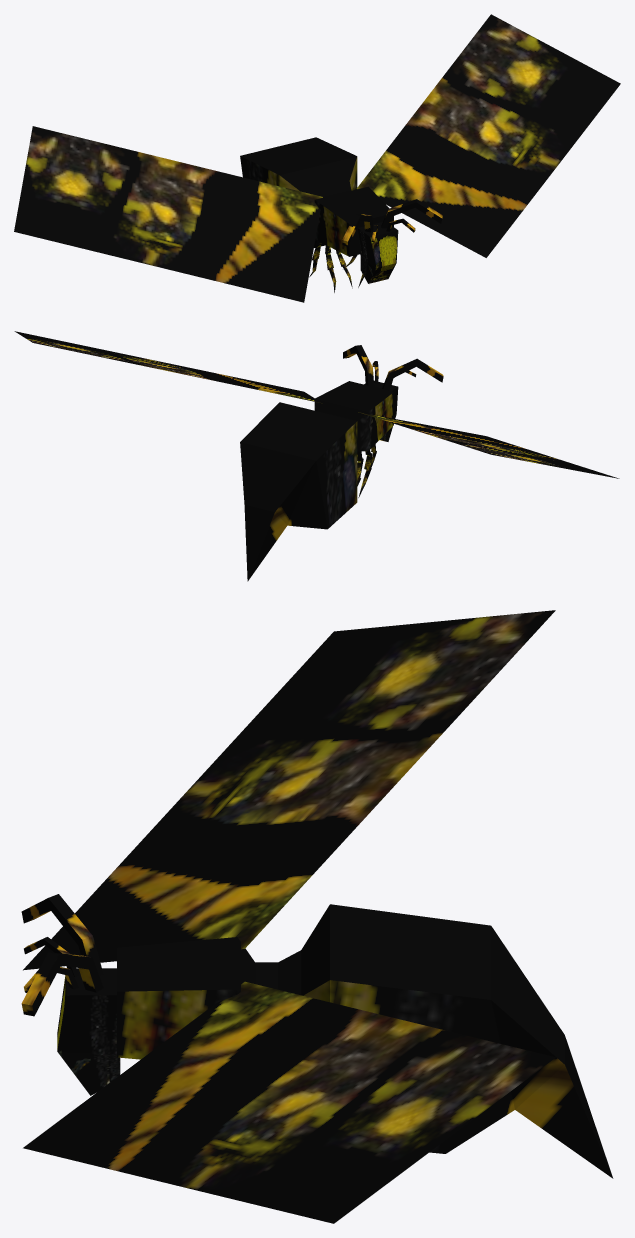
The model's file is vespidqueen.obj.
3 renders of one model, top to bottom at view 1: azimuth 30°, elevation 25°; view 2: azimuth 150°, elevation 25°; view 3: azimuth 270°, elevation 25°, orthographic. The views are drawn at different scales.
Visible parts, largest first — view 1: WingRight, WingLeft, Body, Head; view 2: Body, WingLeft, WingRight, Head; view 3: WingLeft, WingRight, Body, Head.
Part boxes in pixels (box(x1,y1,x2,y2)): WingRight: box(14, 126, 322, 302); WingLeft: box(356, 14, 620, 257); Body: box(240, 137, 393, 256); Head: box(342, 199, 442, 283); Body: box(240, 381, 393, 581); WingLeft: box(14, 331, 321, 403); WingRight: box(358, 412, 619, 478); Head: box(343, 345, 443, 441); WingLeft: box(23, 981, 555, 1223); WingRight: box(23, 610, 555, 970); Body: box(117, 904, 613, 1178); Head: box(21, 894, 120, 1095).
Size of the model in its own units: 7.91 by 2.15 by 3.34.
